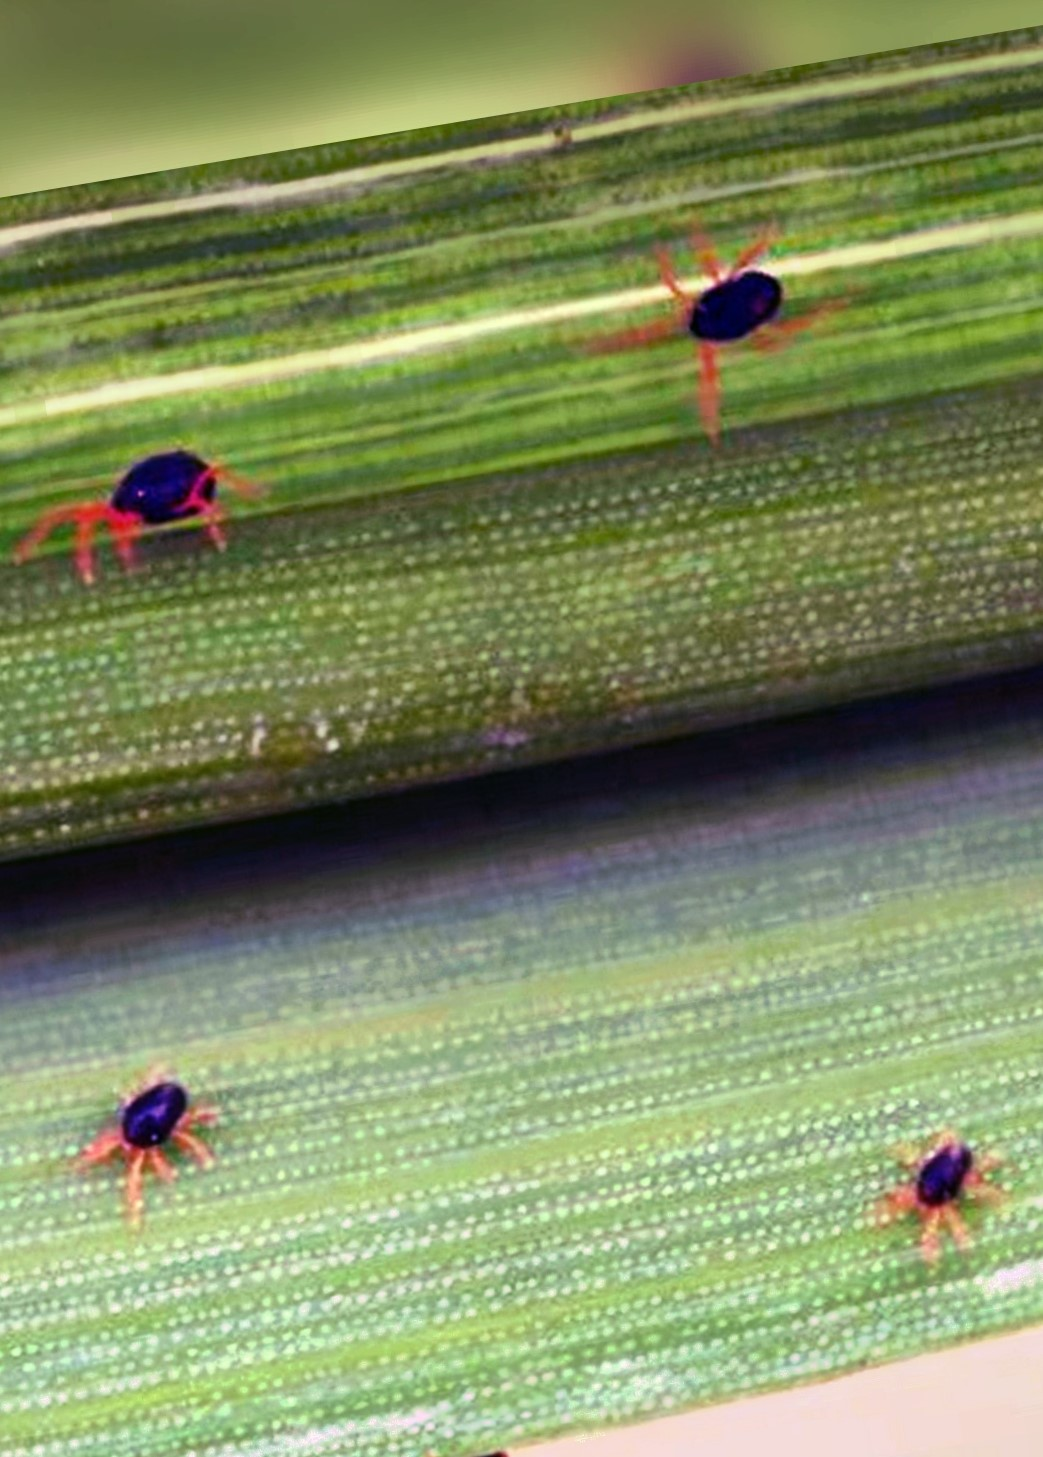Wheat Red Spider: (11, 368, 310, 653), (566, 183, 861, 469), (50, 1026, 247, 1225)
